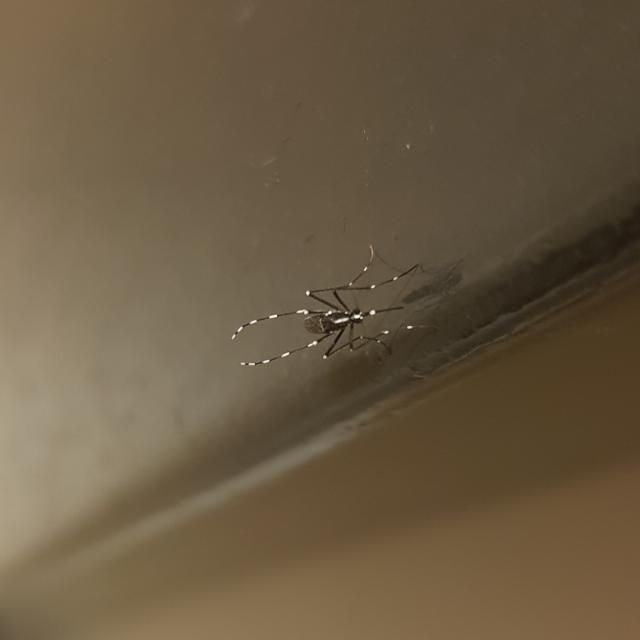albopictus: (230, 231, 427, 369)
